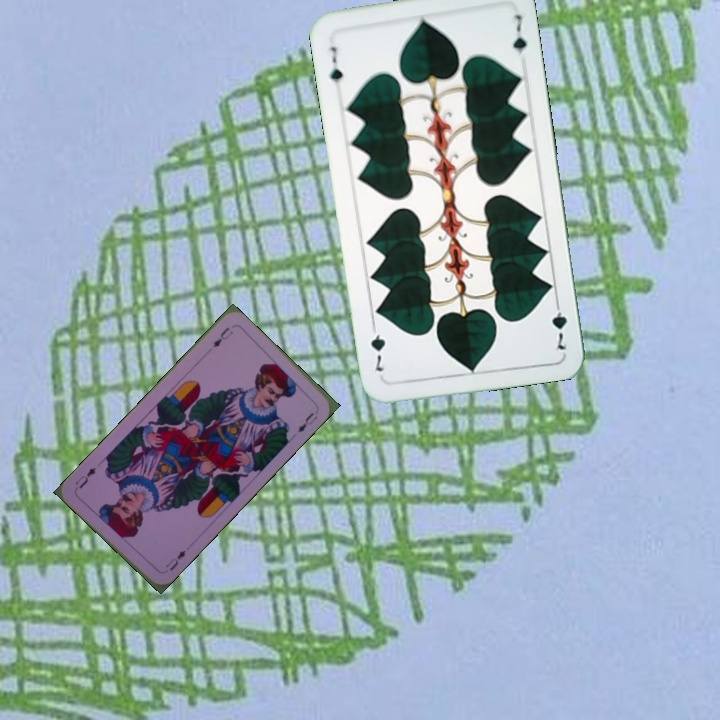EU: (162, 546, 189, 573), (209, 323, 236, 350)
G7: (548, 294, 569, 353), (326, 42, 345, 86)
